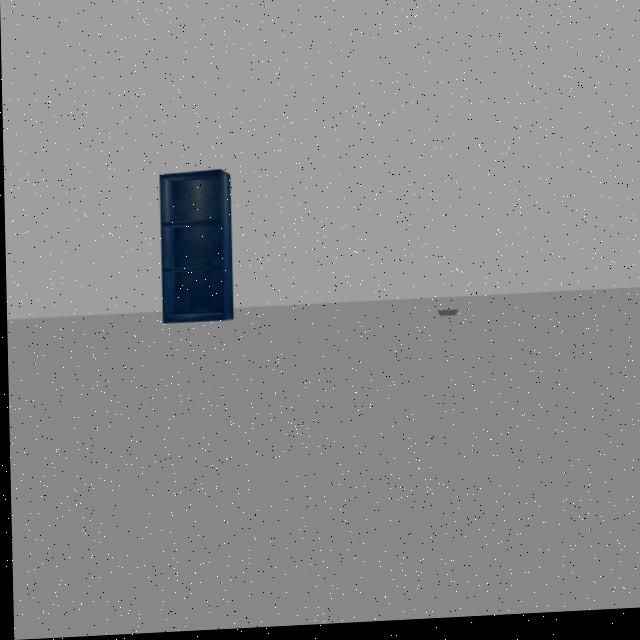bowl: (432, 303, 464, 331)
shelf: (148, 162, 243, 336)
